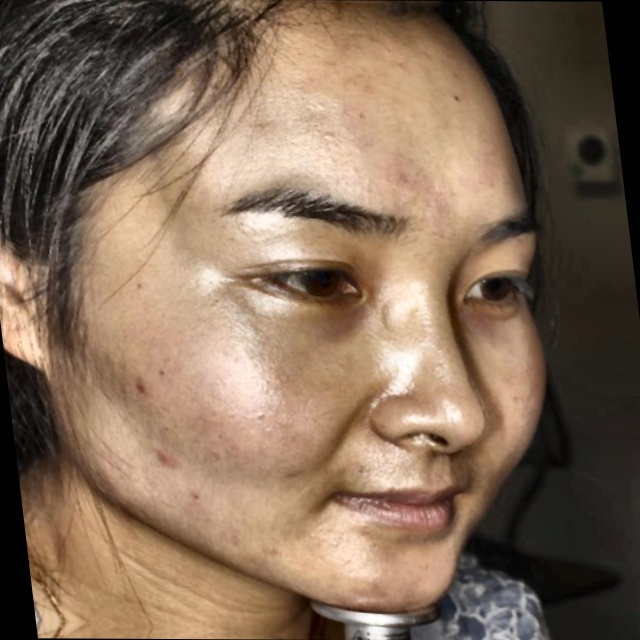comedone: (122, 372, 157, 403), (150, 447, 184, 475)
